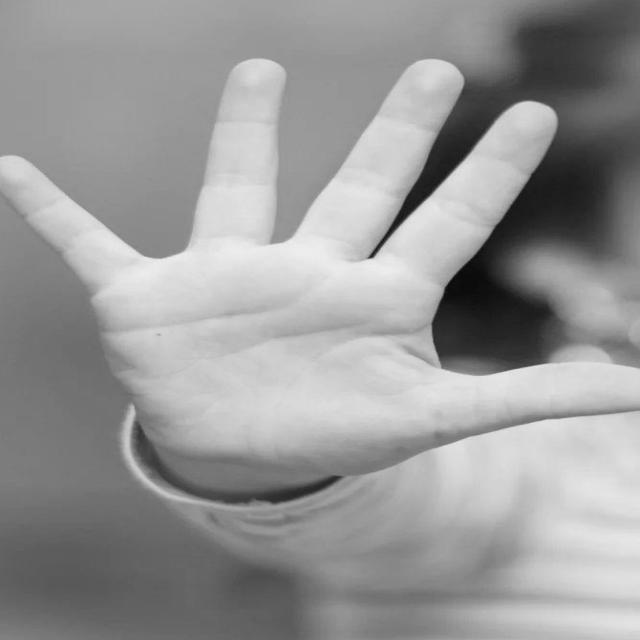stop: (0, 49, 640, 492)
